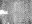person: (0, 10, 8, 14)
